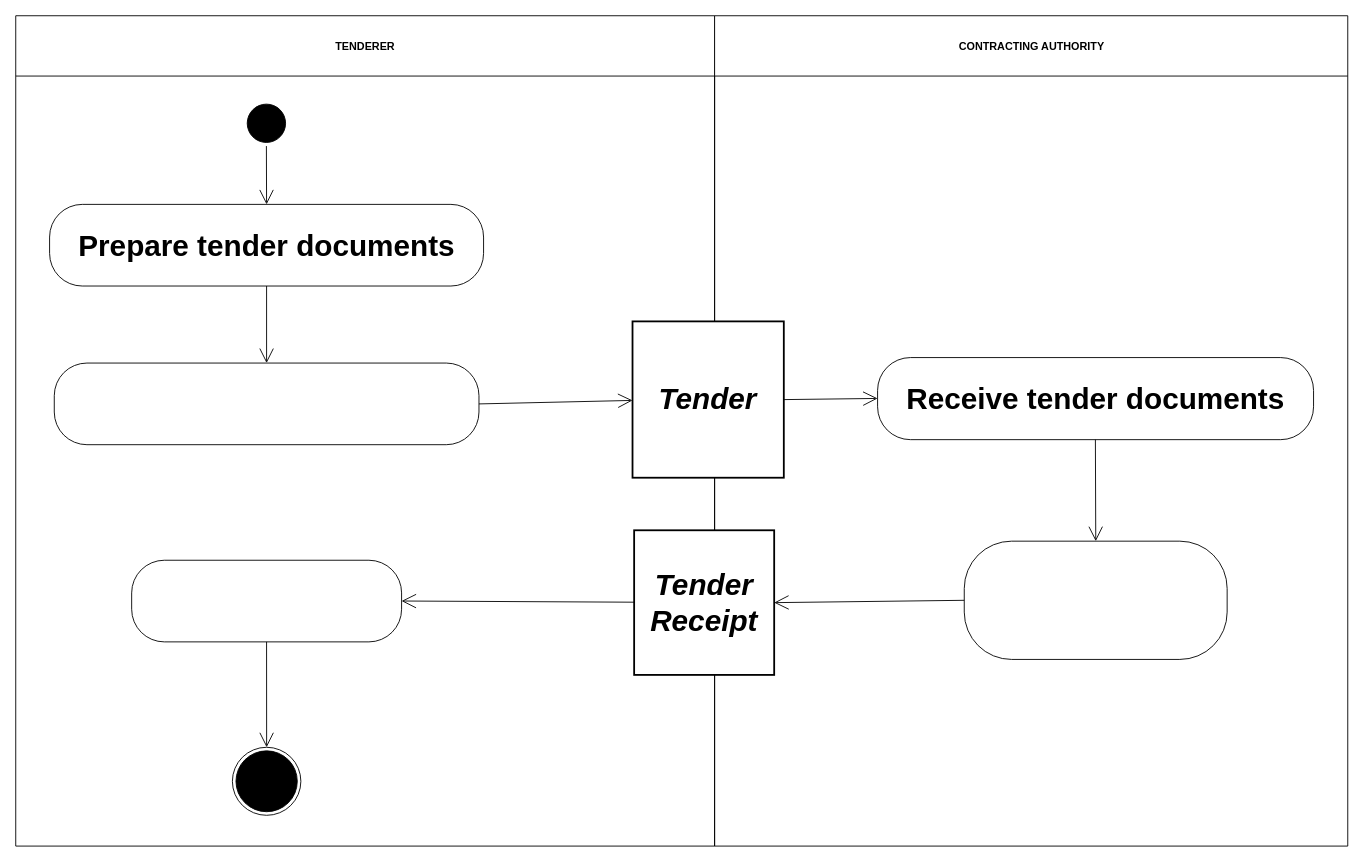
Image size: 1364x862. Some labels were removed from this diagram. Here are the shapes that lost their labels. From the top down, the centre of each, then its label:
At point 266,403: "Submit tender documents".
At point 266,600: "Receive receipt".
At point 1095,599: "Submit tender receipt".
